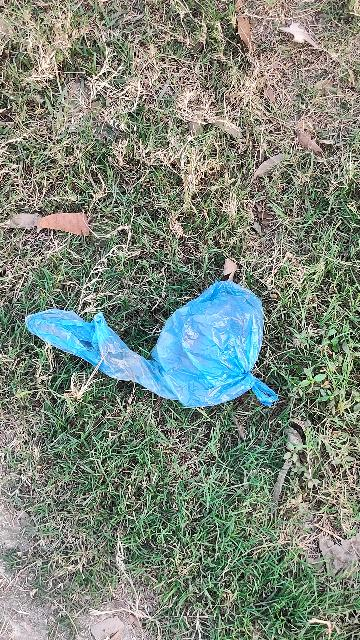polythene: (131, 265, 293, 435)
